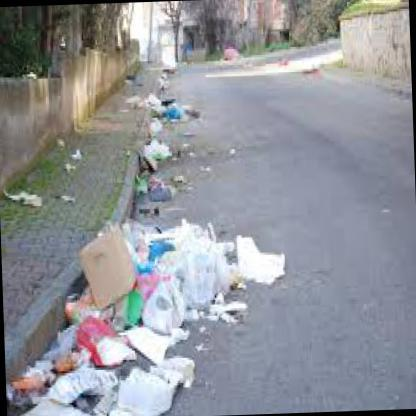Garbage: (5, 243, 202, 415), (112, 330, 210, 408), (216, 218, 281, 318), (6, 175, 82, 241), (137, 264, 191, 341), (160, 232, 204, 306), (174, 252, 230, 310), (49, 314, 88, 392), (139, 155, 186, 209), (8, 356, 43, 412), (144, 122, 186, 166), (147, 99, 191, 130), (67, 134, 89, 178)
